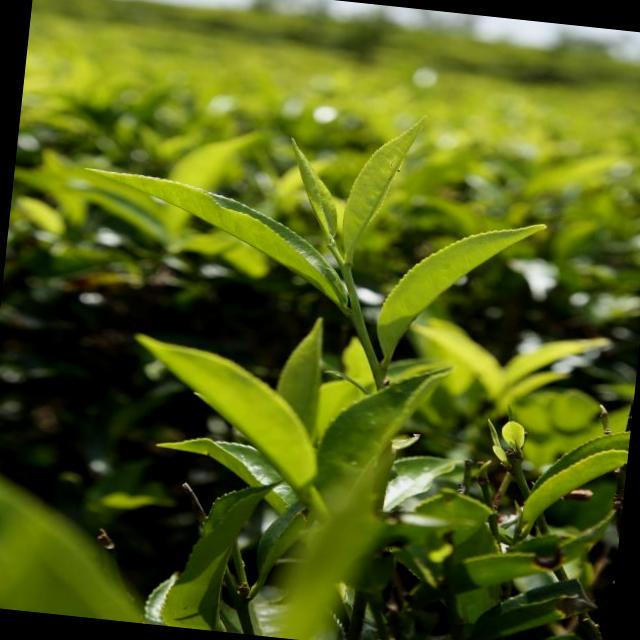Stem: (341, 265, 354, 282)
